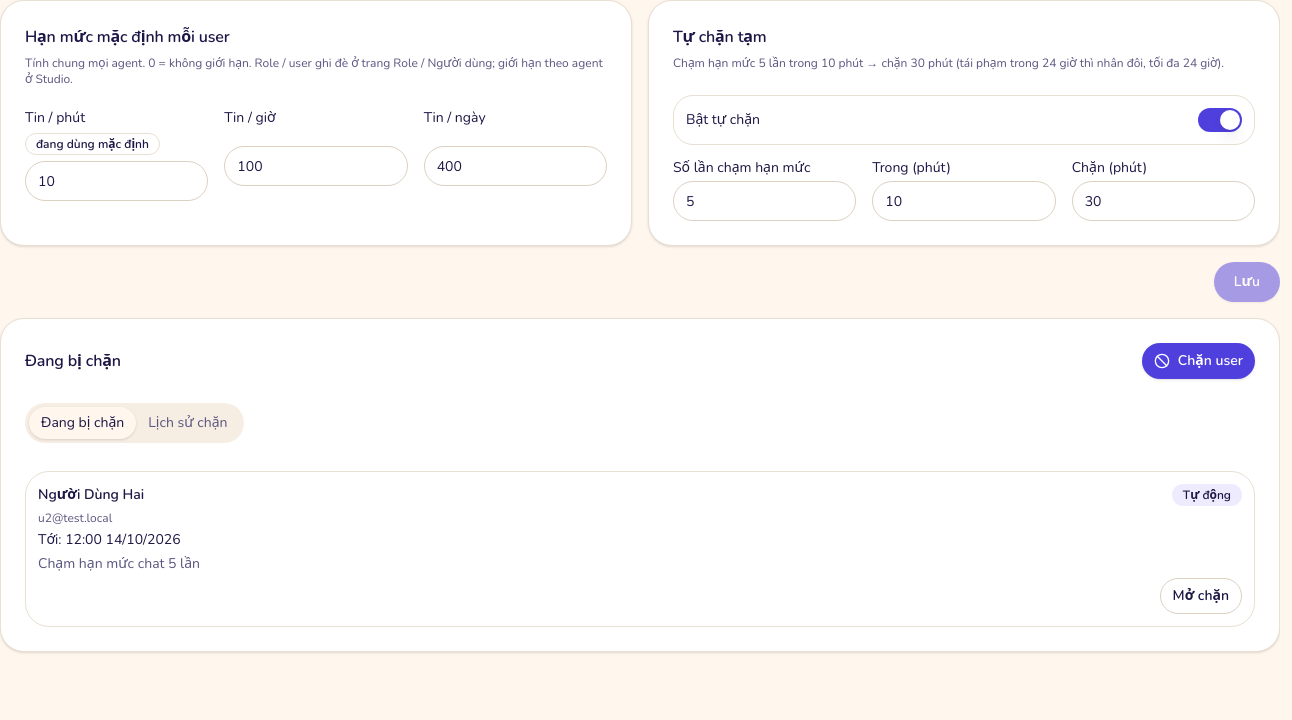
Test: ChatGuardPage › giá trị không hợp lệ khoá nút lưu
Replace the text in the field with test id "guard-field-chat_autoblock_strikes" with "0" at coordinates (765, 201), box x1=673 y1=181 x2=856 y2=221
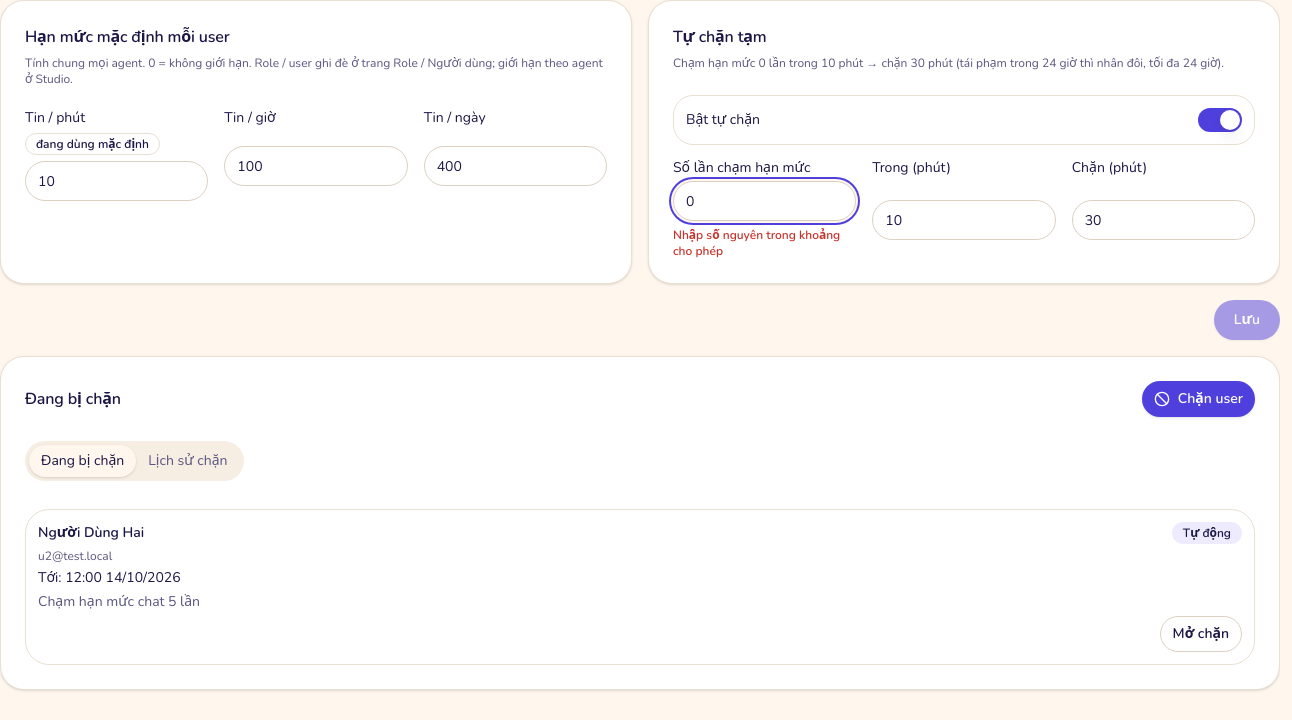
Expected: the button with test id "guard-save" is disabled, x1=1214 y1=300 x2=1280 y2=340
Replace the text in the field with test id "guard-field-chat_autoblock_strikes" with "abc" at coordinates (765, 201), box x1=673 y1=181 x2=856 y2=221
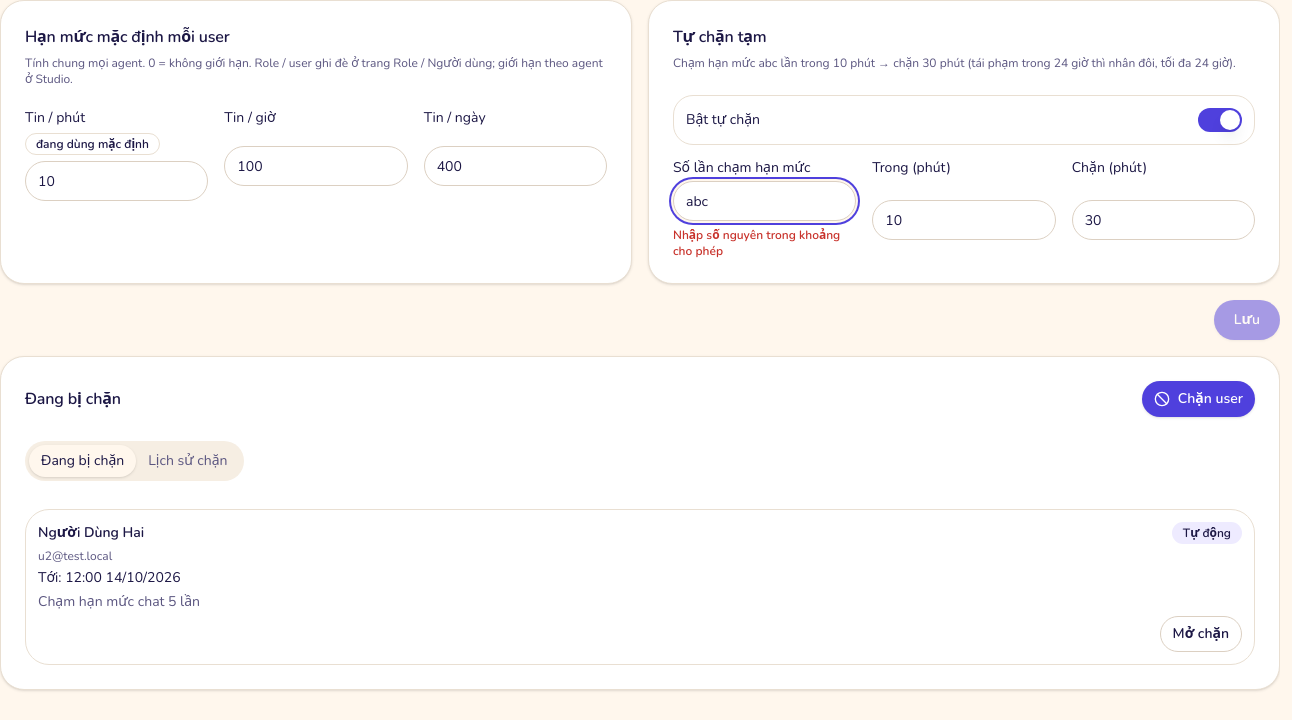
Expected: the button with test id "guard-save" is disabled, x1=1214 y1=300 x2=1280 y2=340
Replace the text in the field with test id "guard-field-chat_autoblock_strikes" with "7" at coordinates (765, 201), box x1=673 y1=181 x2=856 y2=221
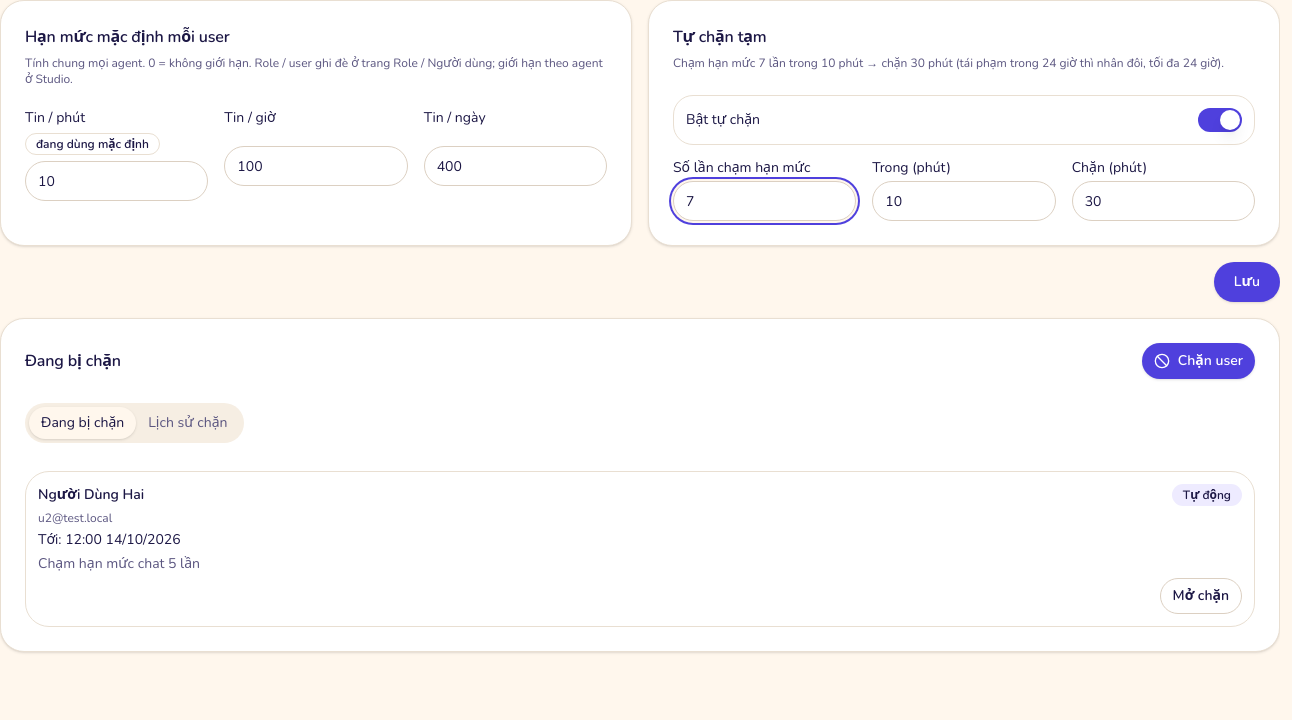
Expected: the button with test id "guard-save" is enabled, x1=1214 y1=262 x2=1280 y2=302
Clear the field with test id "guard-field-chat_per_day" at coordinates (515, 166), box x1=424 y1=146 x2=607 y2=186
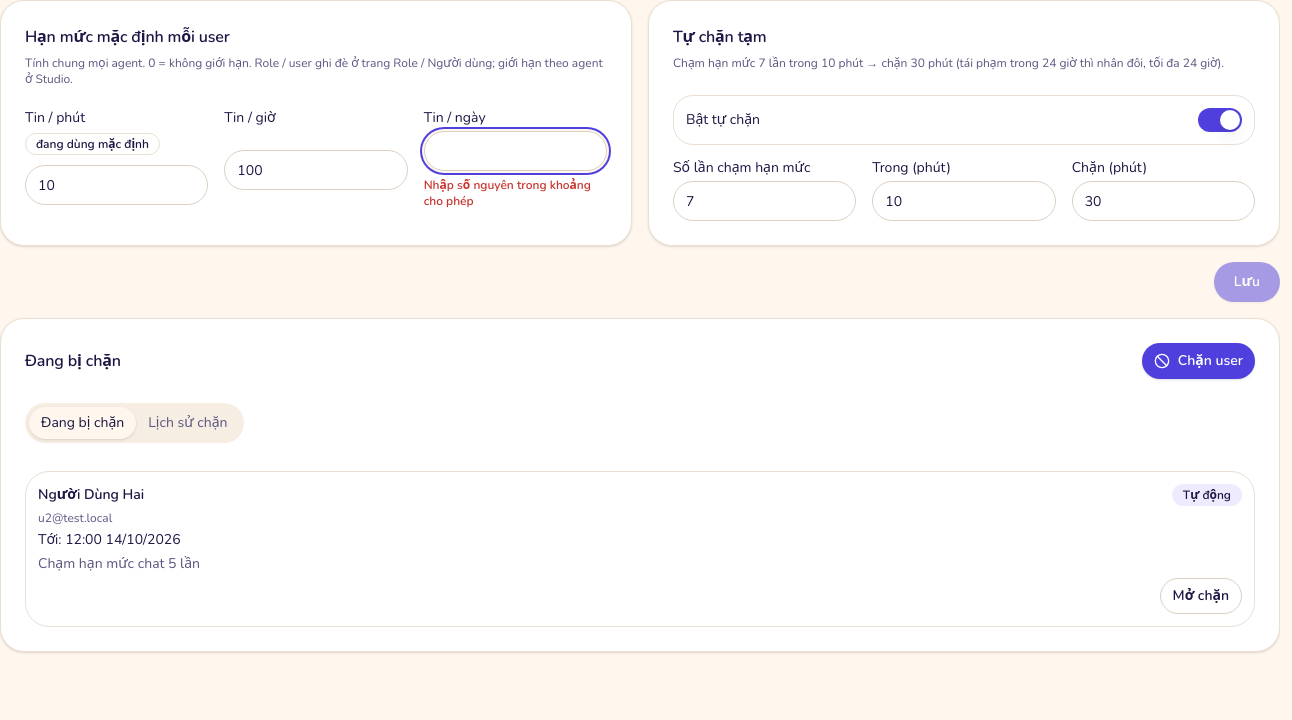
Expected: the button with test id "guard-save" is disabled, x1=1214 y1=262 x2=1280 y2=302
